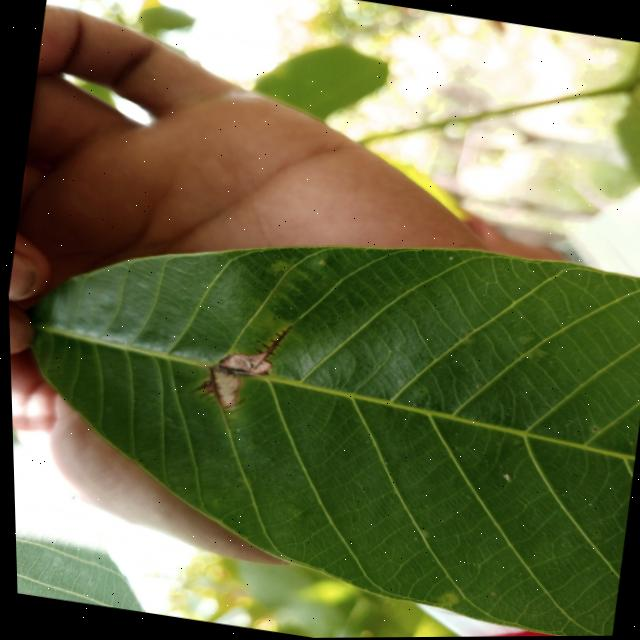Corynespora: (182, 365, 249, 432), (248, 320, 292, 374)
Leaf-Blight: (216, 345, 270, 378), (207, 370, 242, 409)
